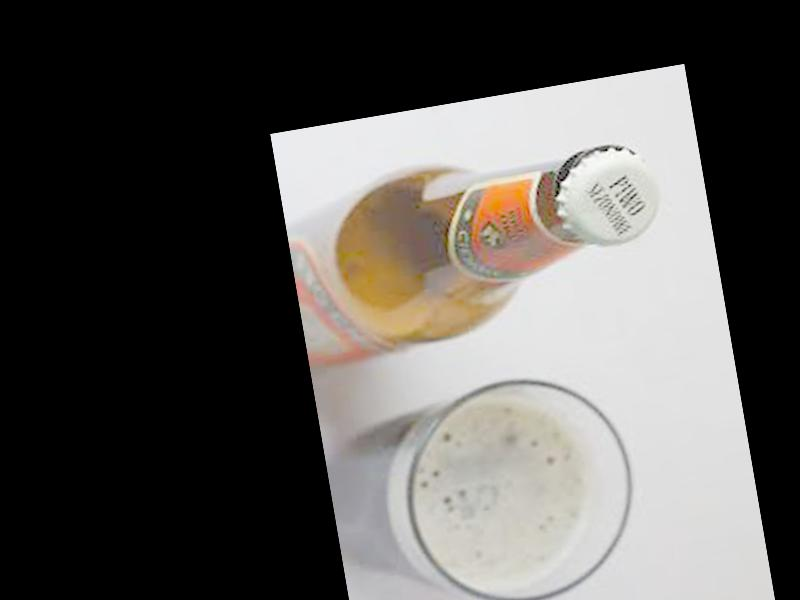Beer: (279, 128, 679, 373)
